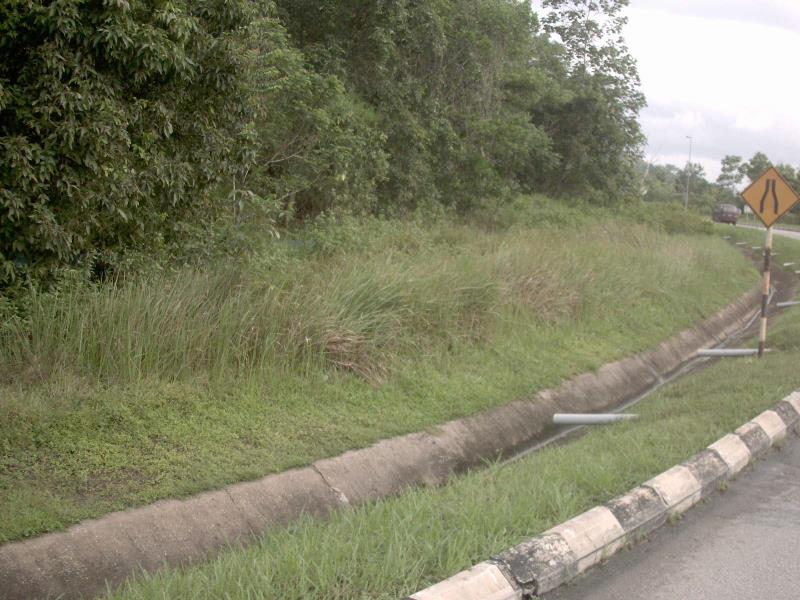traffic_sign: (733, 159, 799, 234)
